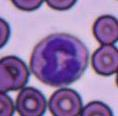N: (29, 33, 88, 86)
